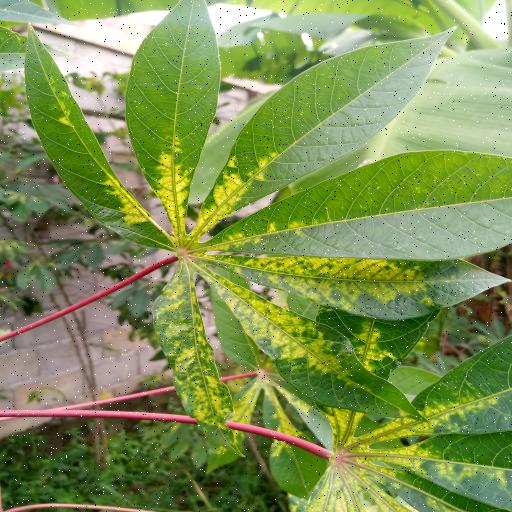Cassava_Mosaic: (2, 0, 512, 457), (271, 256, 512, 512)
